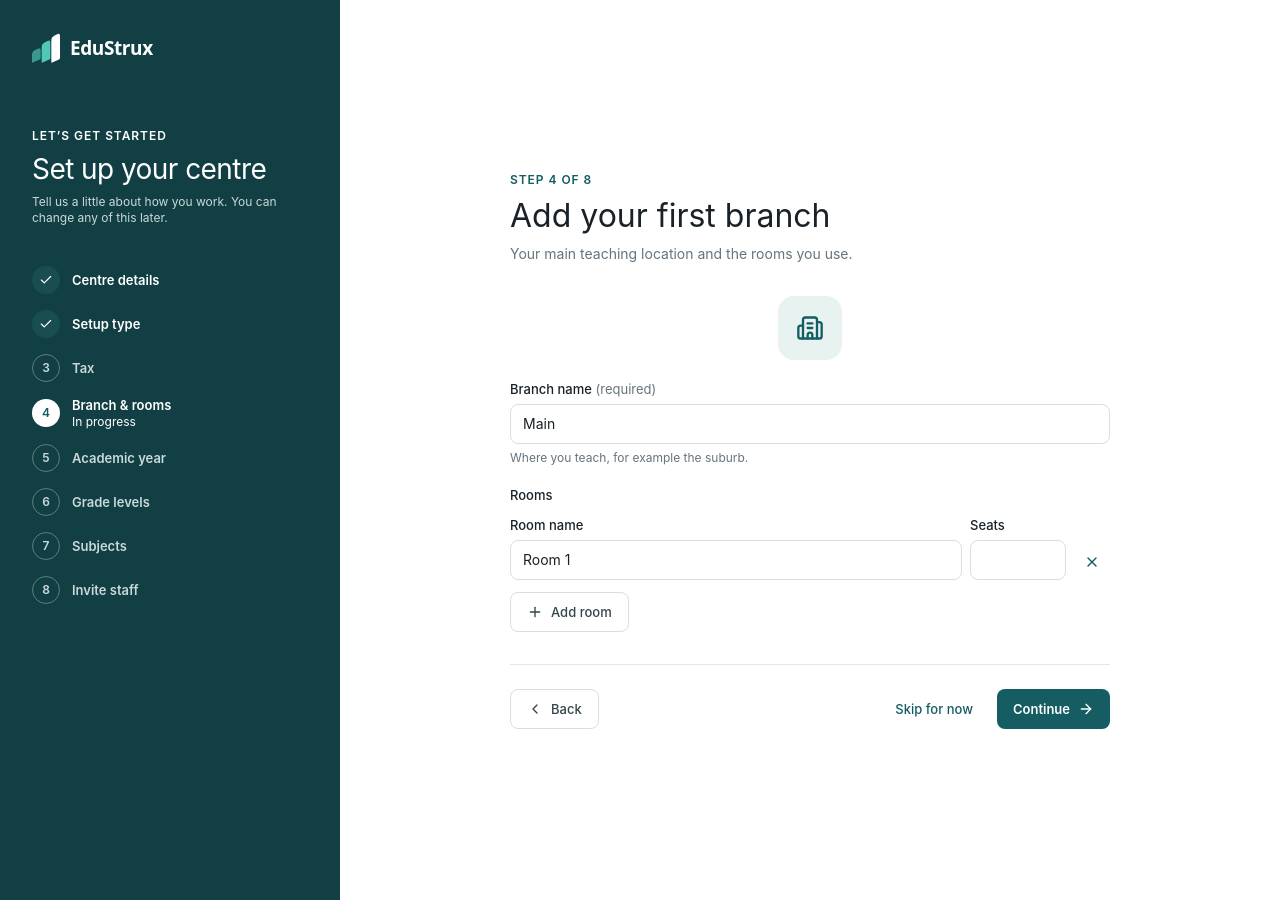
Test: the setup wizard › renames the Main branch and adds its rooms
Replace the text in the field labelled "Branch name (required)" with "Mt Albert" at (810, 424), box [510, 404, 1110, 444]
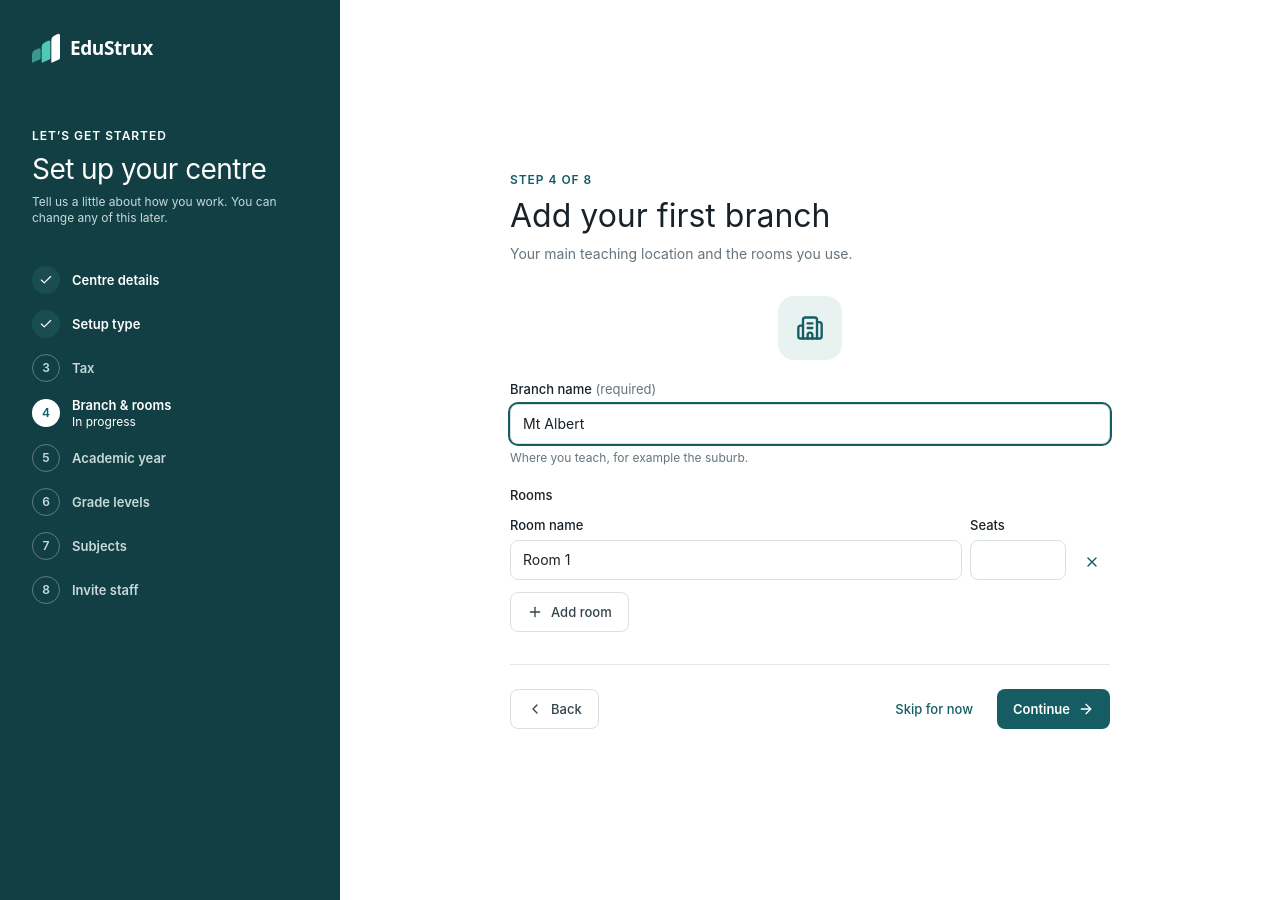
Type "12" into the field labelled "Seats" at (1018, 560), box [970, 540, 1066, 580]
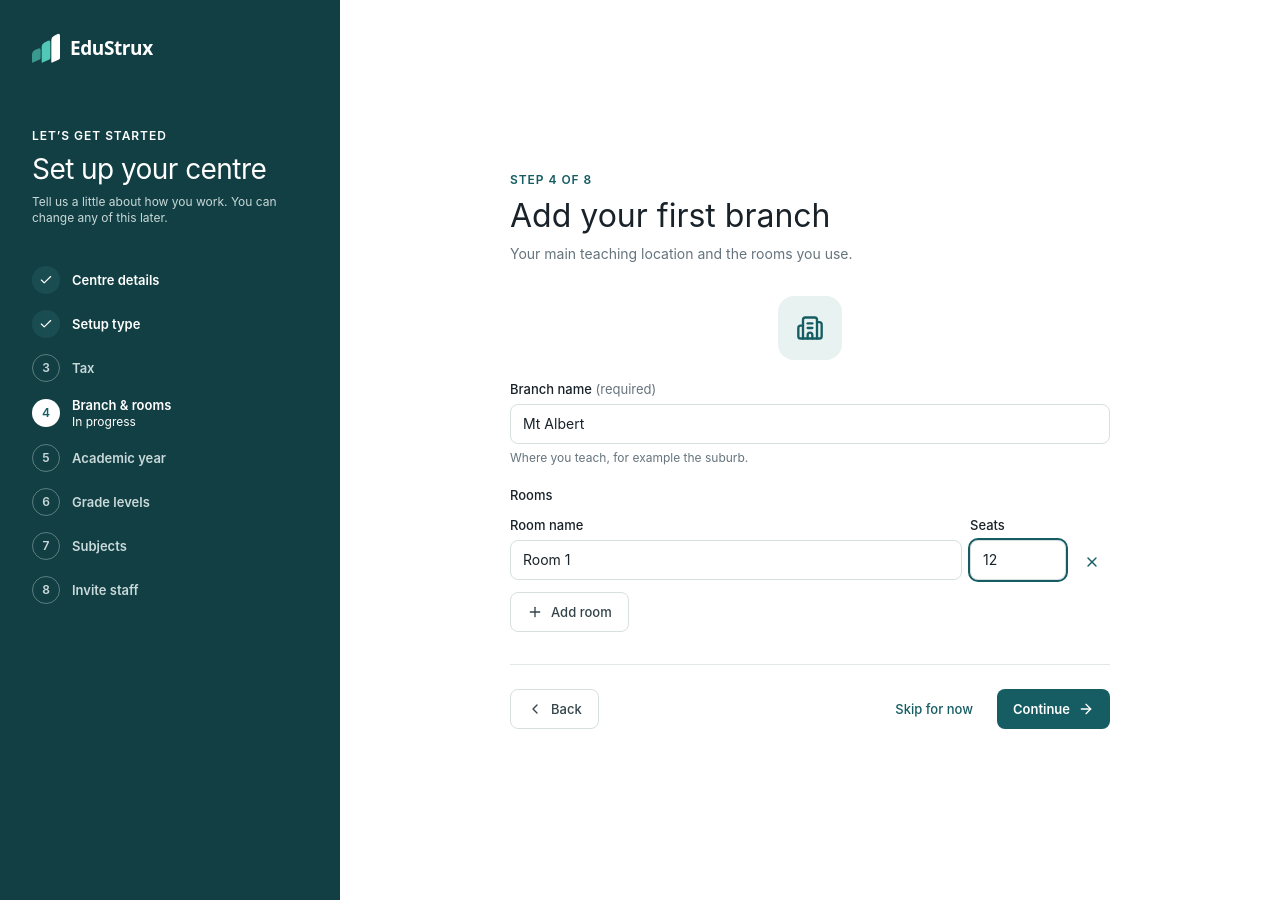
Click the button "Add room" at (569, 612), box [510, 592, 629, 632]
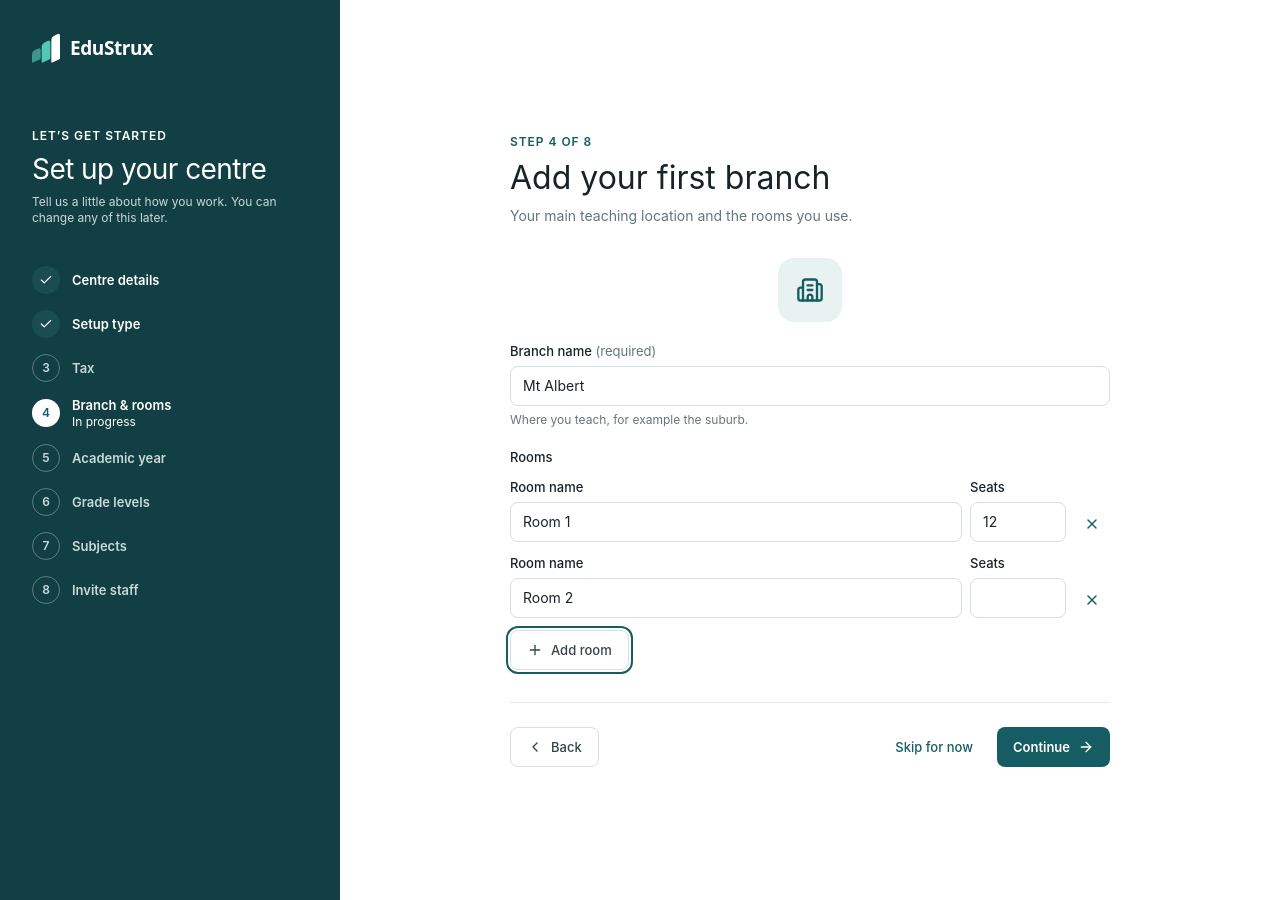
Click the button "Continue" at (1054, 746), box [997, 726, 1110, 766]
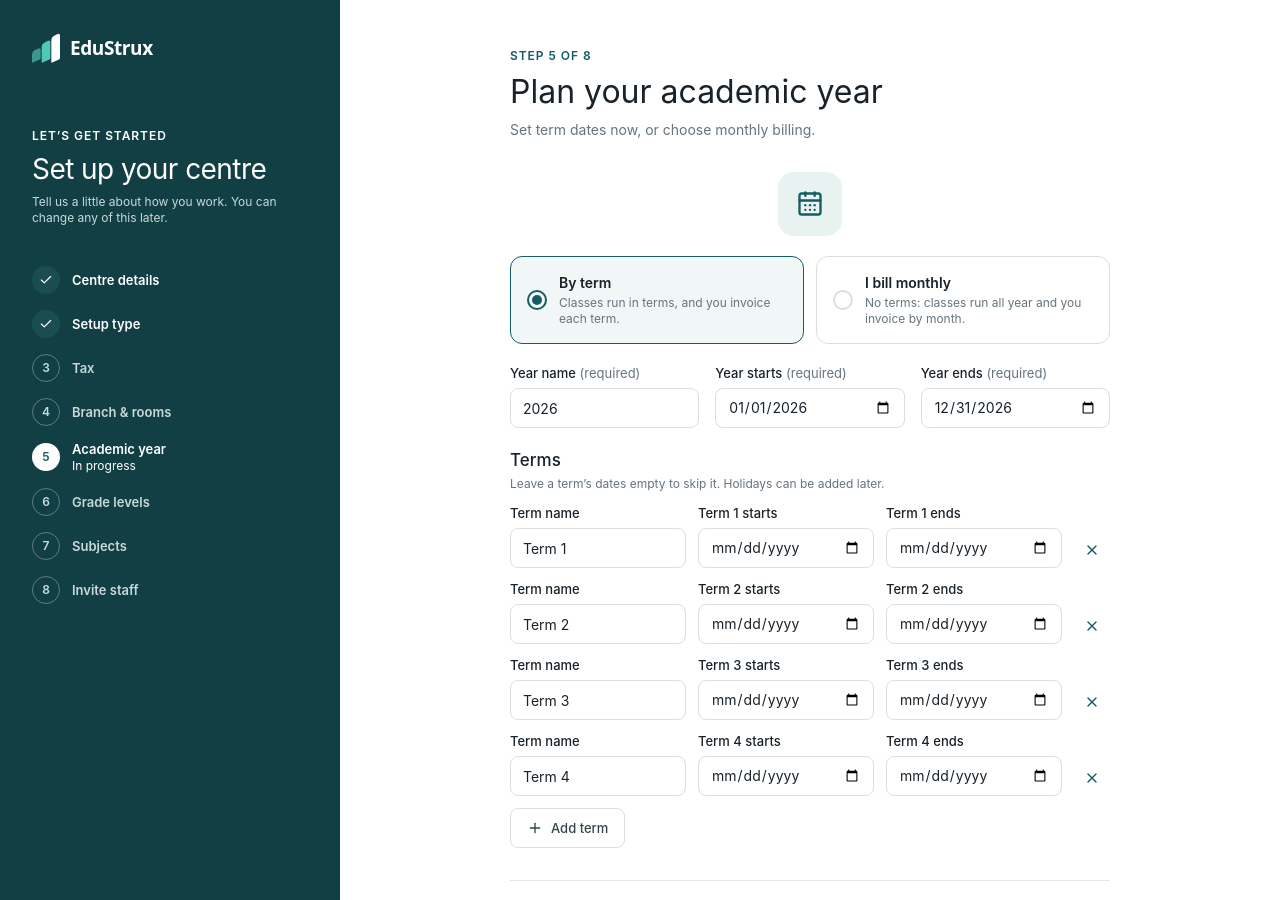
Result: the heading "Plan your academic year" is shown at [510, 72, 883, 111]
